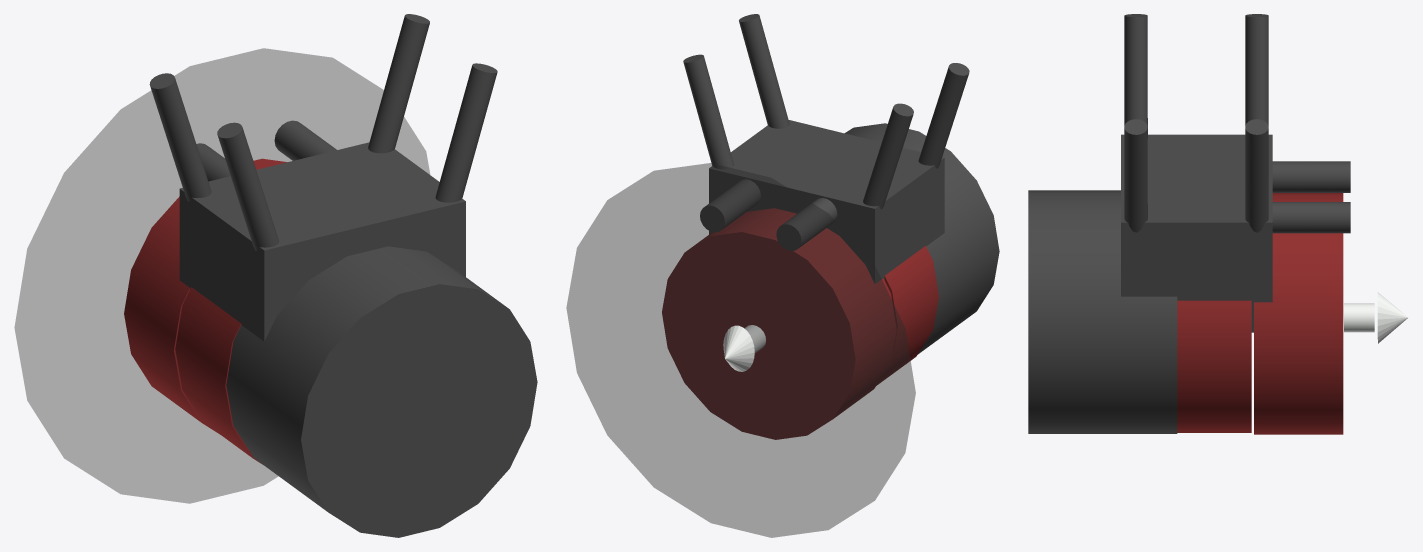
The model's file is debris34.fbx.
3 views of the same model, side by side, from view 1: azimuth 30°, elevation 25°; view 2: azimuth 150°, elevation 25°; view 3: azimuth 270°, elevation 25° (orthographic). The views are drawn at different scales.
Visible parts, largest first — view 1: Cylinder06, Cylinder13, Box04, Cylinder02, Cylinder03, Cylinder14, Cylinder15, Cylinder16, Cylinder17, Cylinder05, Cylinder01; view 2: Cylinder13, Cylinder02, Box04, Cylinder06, Cylinder03, Cylinder15, Cylinder14, Cylinder16, Cylinder17, Cylinder01, Cylinder05, Cone04; view 3: Cylinder06, Box04, Cylinder02, Cylinder03, Cylinder16, Cylinder17, Cylinder14, Cylinder15, Cylinder01, Cylinder05, Cylinder12, Cone04.
Part boxes in pixels (left/top/right/bottom): Cylinder06: left=226, top=246, right=537, bottom=537; Cylinder13: left=14, top=48, right=429, bottom=503; Box04: left=179, top=142, right=465, bottom=341; Cylinder02: left=124, top=158, right=287, bottom=433; Cylinder03: left=175, top=287, right=262, bottom=464; Cylinder14: left=435, top=63, right=497, bottom=202; Cylinder15: left=368, top=14, right=429, bottom=153; Cylinder16: left=217, top=122, right=279, bottom=250; Cylinder17: left=149, top=73, right=211, bottom=201; Cylinder05: left=274, top=120, right=336, bottom=160; Cylinder01: left=196, top=143, right=230, bottom=181; Cylinder13: left=566, top=163, right=915, bottom=537; Cylinder02: left=662, top=208, right=896, bottom=439; Box04: left=709, top=120, right=944, bottom=283; Cylinder06: left=845, top=123, right=999, bottom=354; Cylinder03: left=876, top=246, right=938, bottom=385; Cylinder15: left=683, top=54, right=734, bottom=169; Cylinder14: left=739, top=14, right=789, bottom=128; Cylinder16: left=918, top=63, right=969, bottom=168; Cylinder17: left=863, top=103, right=913, bottom=209; Cylinder01: left=776, top=198, right=837, bottom=250; Cylinder05: left=700, top=179, right=760, bottom=232; Cone04: left=723, top=325, right=754, bottom=371; Cylinder06: left=1028, top=190, right=1177, bottom=433; Box04: left=1121, top=134, right=1272, bottom=332; Cylinder02: left=1254, top=193, right=1343, bottom=434; Cylinder03: left=1177, top=300, right=1251, bottom=432; Cylinder16: left=1124, top=14, right=1147, bottom=137; Cylinder17: left=1245, top=14, right=1268, bottom=125; Cylinder14: left=1124, top=119, right=1147, bottom=232; Cylinder15: left=1245, top=119, right=1268, bottom=232; Cylinder01: left=1272, top=161, right=1350, bottom=192; Cylinder05: left=1272, top=202, right=1350, bottom=233; Cylinder12: left=1344, top=303, right=1374, bottom=332; Cone04: left=1377, top=292, right=1408, bottom=343.
Size of the model in its own units: 434 by 486 by 376.
